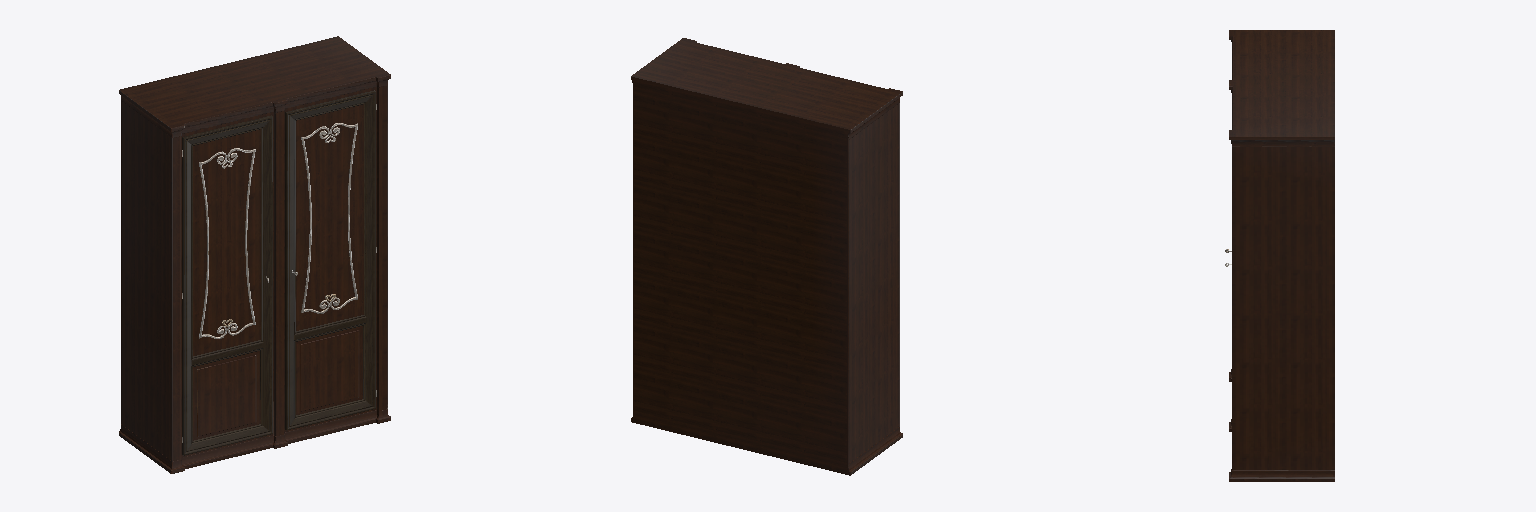
The picture shows the model from 3 angles: view 1: azimuth 30°, elevation 25°; view 2: azimuth 150°, elevation 25°; view 3: azimuth 270°, elevation 25°; orthographic projection.
Parts seen in each view (by area): view 1: solid_001, solid_003, solid_002; view 2: solid_001; view 3: solid_001.
Part boxes in pixels (x1,y1,x2,y2): solid_001: (119,36,390,473); solid_003: (182,90,375,455); solid_002: (182,104,376,442); solid_001: (631,38,902,475); solid_001: (1229,30,1334,481).
Size of the model in its own units: 1.49 by 2.24 by 0.6448.
1 materials, 1 textured.